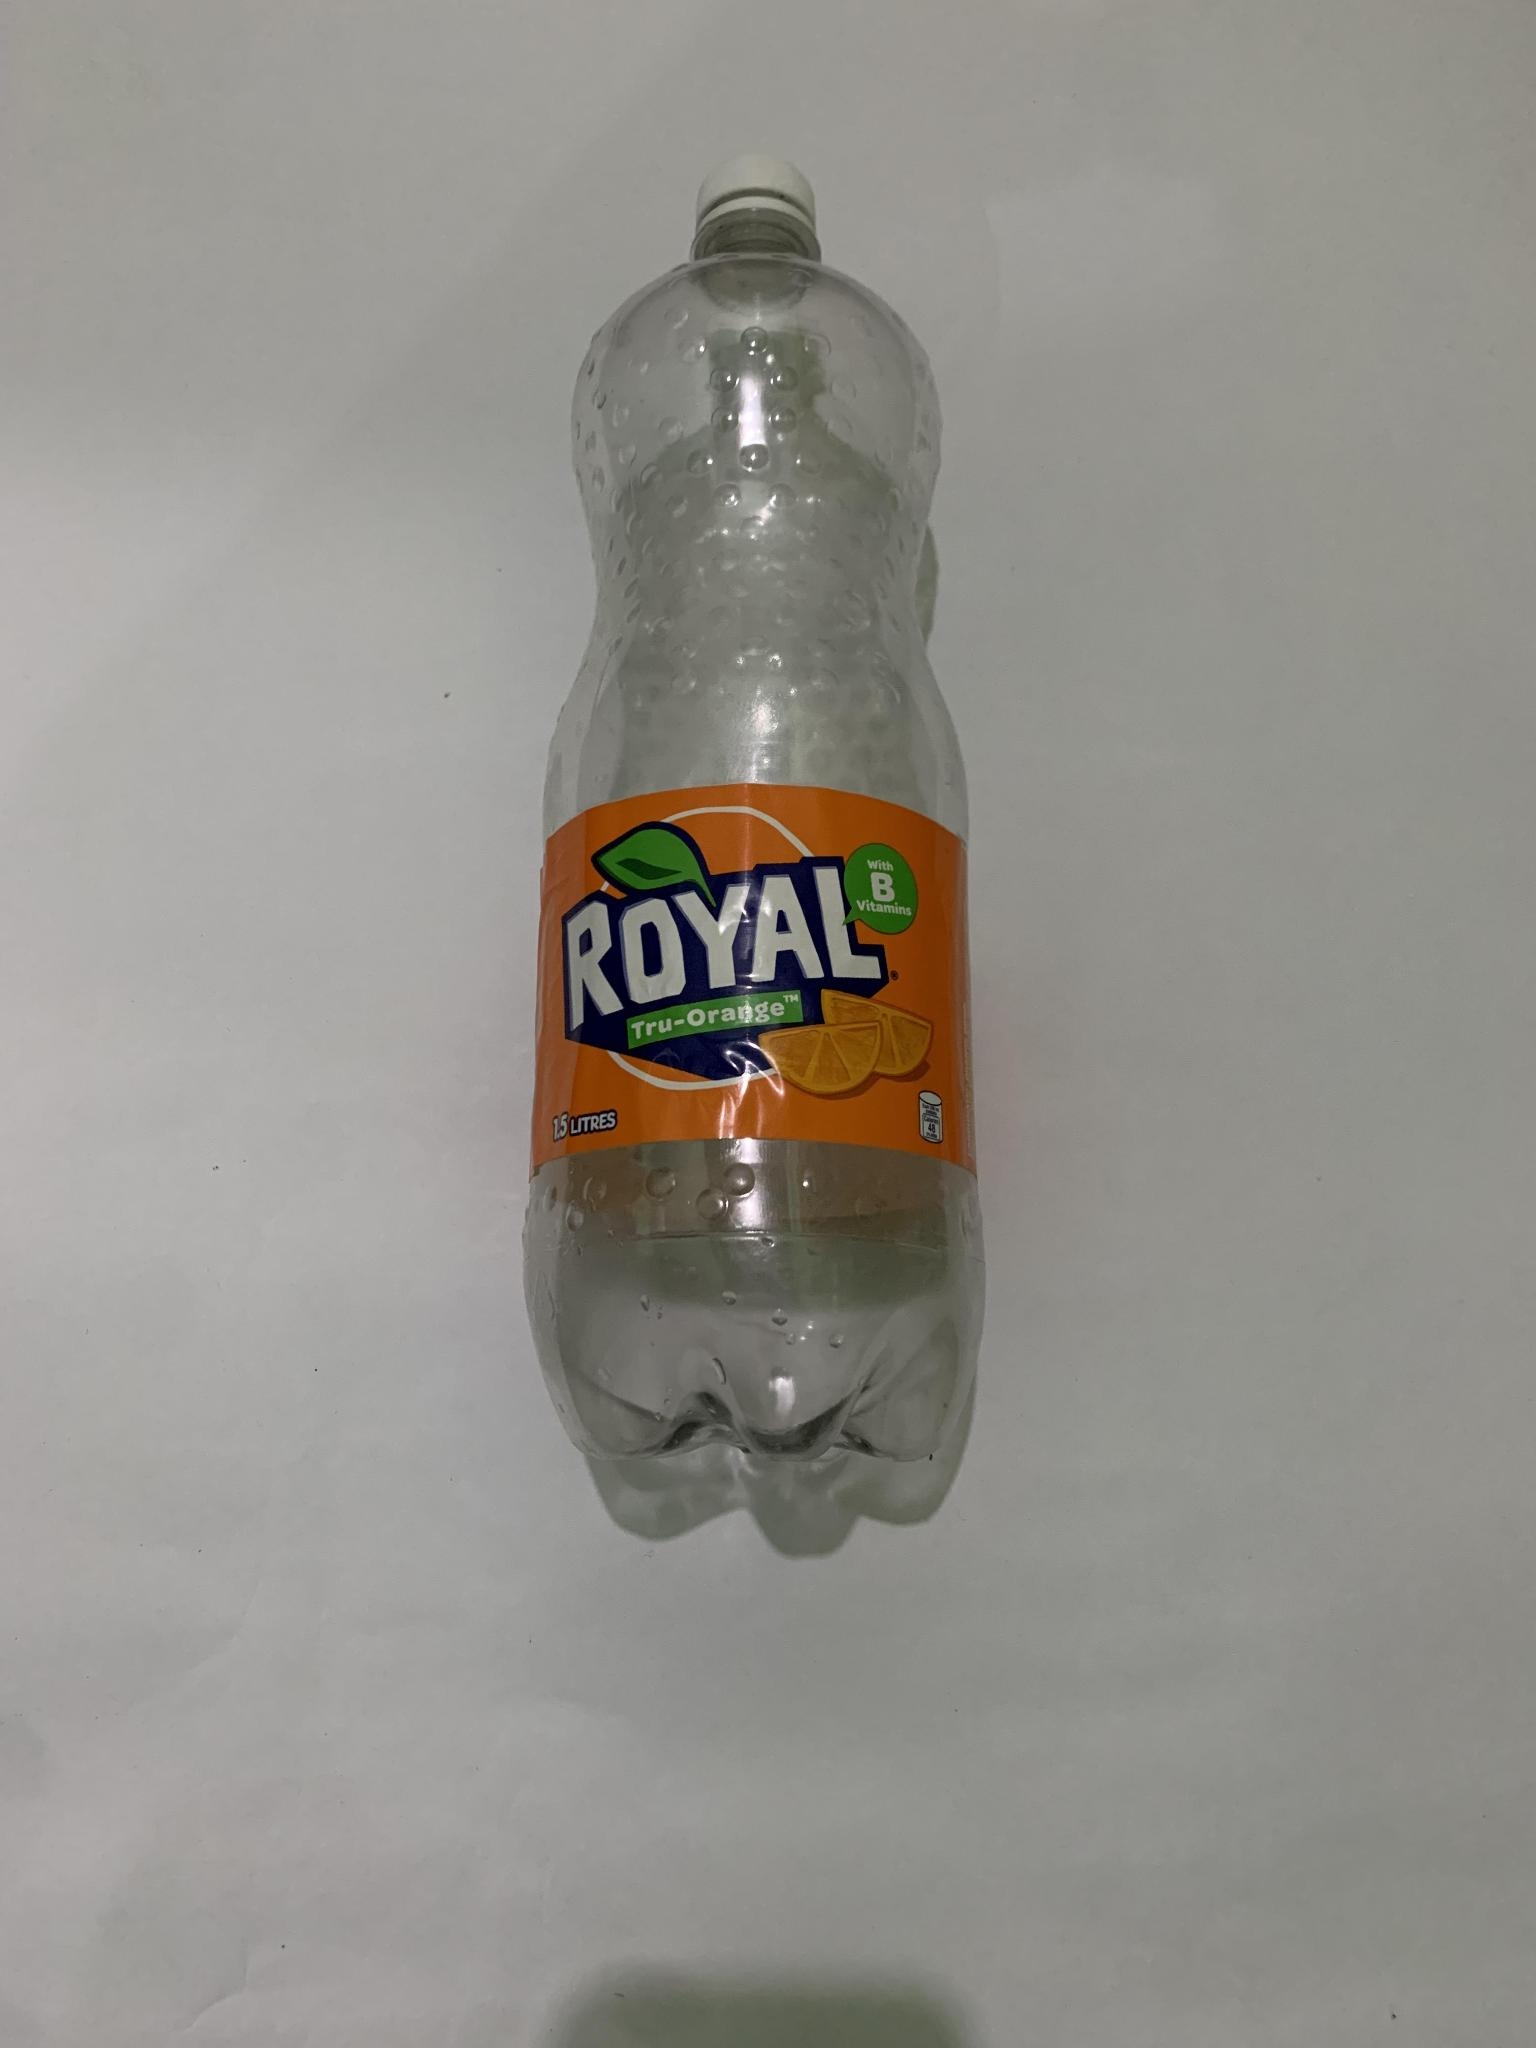bottle: (518, 194, 989, 1432)
